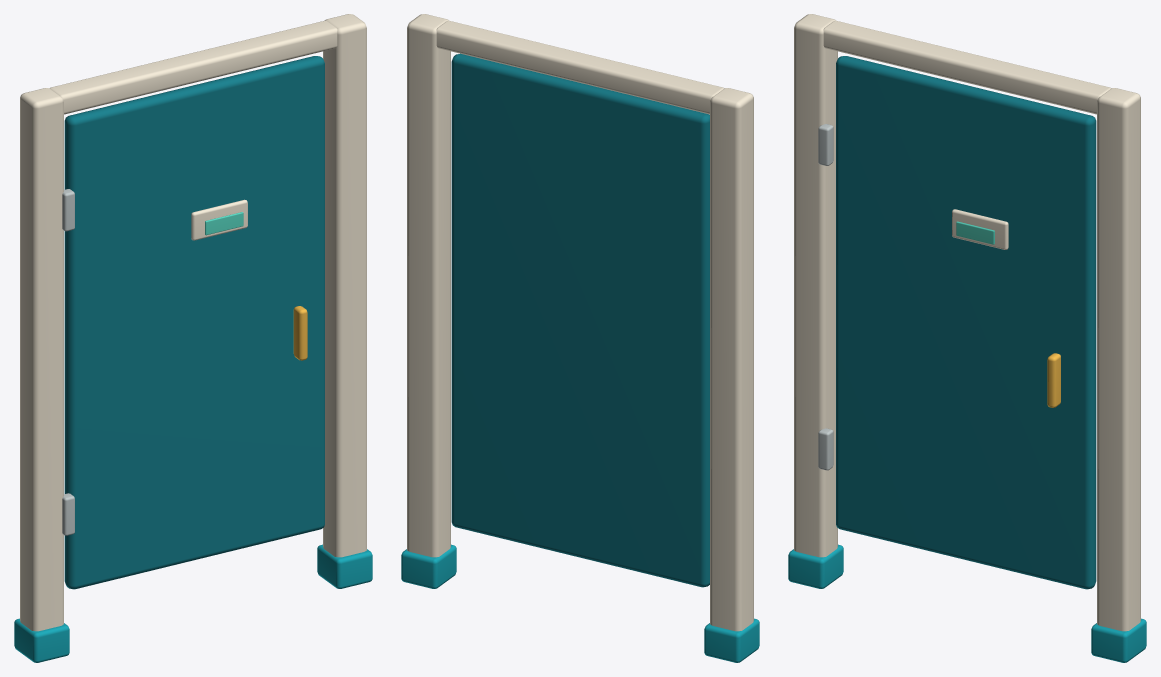
The model's file is Restroom_Stall_Front.glb.
3 renders of one model, left to right at view 1: azimuth 30°, elevation 25°; view 2: azimuth 150°, elevation 25°; view 3: azimuth 330°, elevation 25°, orthographic.
Visible parts, largest first — view 1: Door_Hinge__Visual, Restroom_Stall_Front__Visual, Occupancy_Toggle__Visual; view 2: Door_Hinge__Visual, Restroom_Stall_Front__Visual; view 3: Door_Hinge__Visual, Restroom_Stall_Front__Visual, Occupancy_Toggle__Visual.
Part boxes in pixels (box(x1,y1,x2,y2)): Door_Hinge__Visual: box(64, 56, 324, 589); Restroom_Stall_Front__Visual: box(14, 14, 372, 662); Occupancy_Toggle__Visual: box(205, 212, 243, 235); Door_Hinge__Visual: box(451, 53, 709, 587); Restroom_Stall_Front__Visual: box(401, 14, 759, 662); Door_Hinge__Visual: box(836, 56, 1096, 589); Restroom_Stall_Front__Visual: box(788, 14, 1146, 662); Occupancy_Toggle__Visual: box(956, 221, 994, 244).
Bounding box in the file's own units: 1.4 × 2.2 × 0.1805.
Materials: 1 (1 with a texture image).
